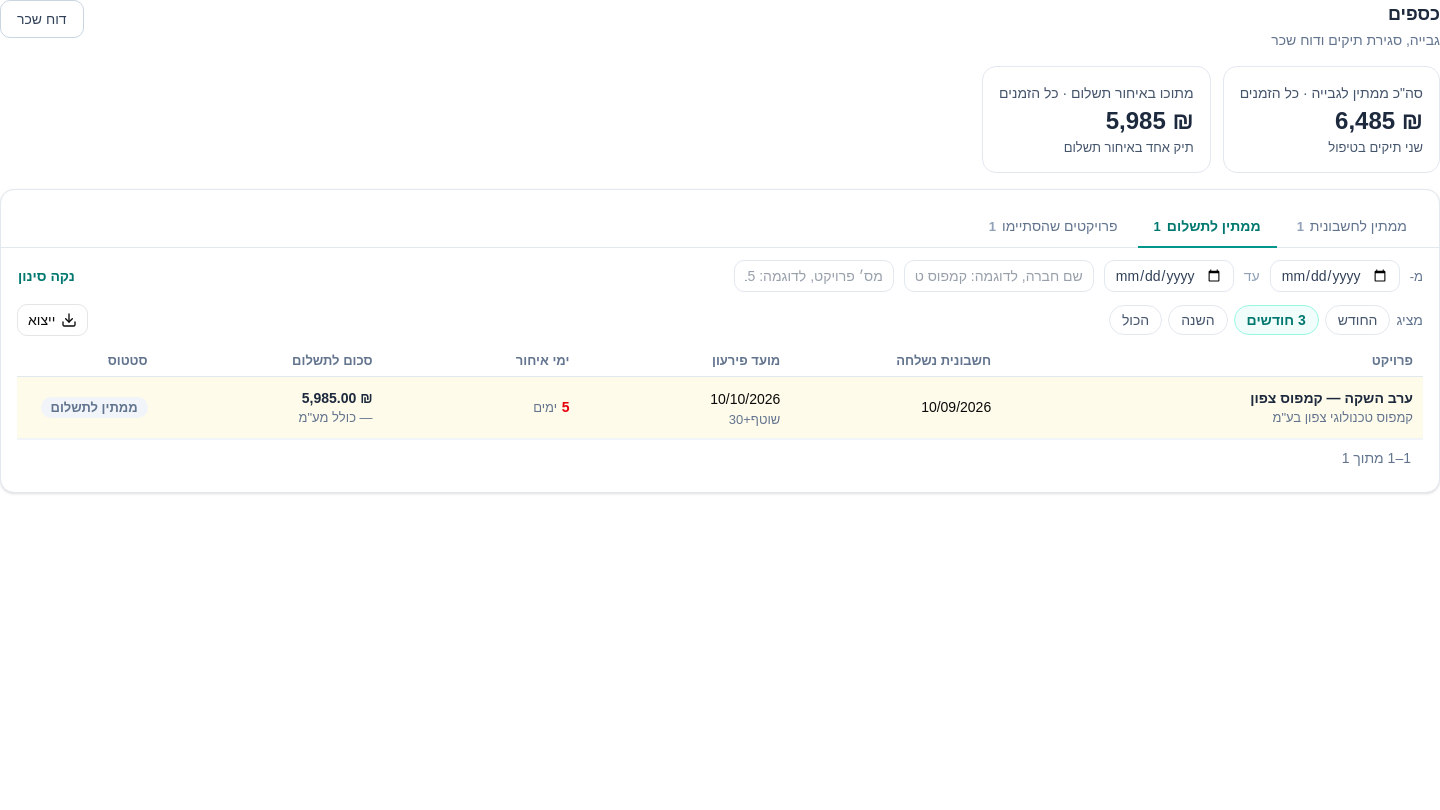
Scenario: FinancePage — חיבור לחלון-הייצוא, ליבה פר-לשונית › 🔴 כשל בטעינת המע"מ ⇒ הייצוא חסום והסיבה כתובה
Expected: the table with test id "finance-table" is shown, [17, 346, 1423, 439]
Click the button with test id "finance-export-button" at (53, 320), box [17, 304, 88, 336]
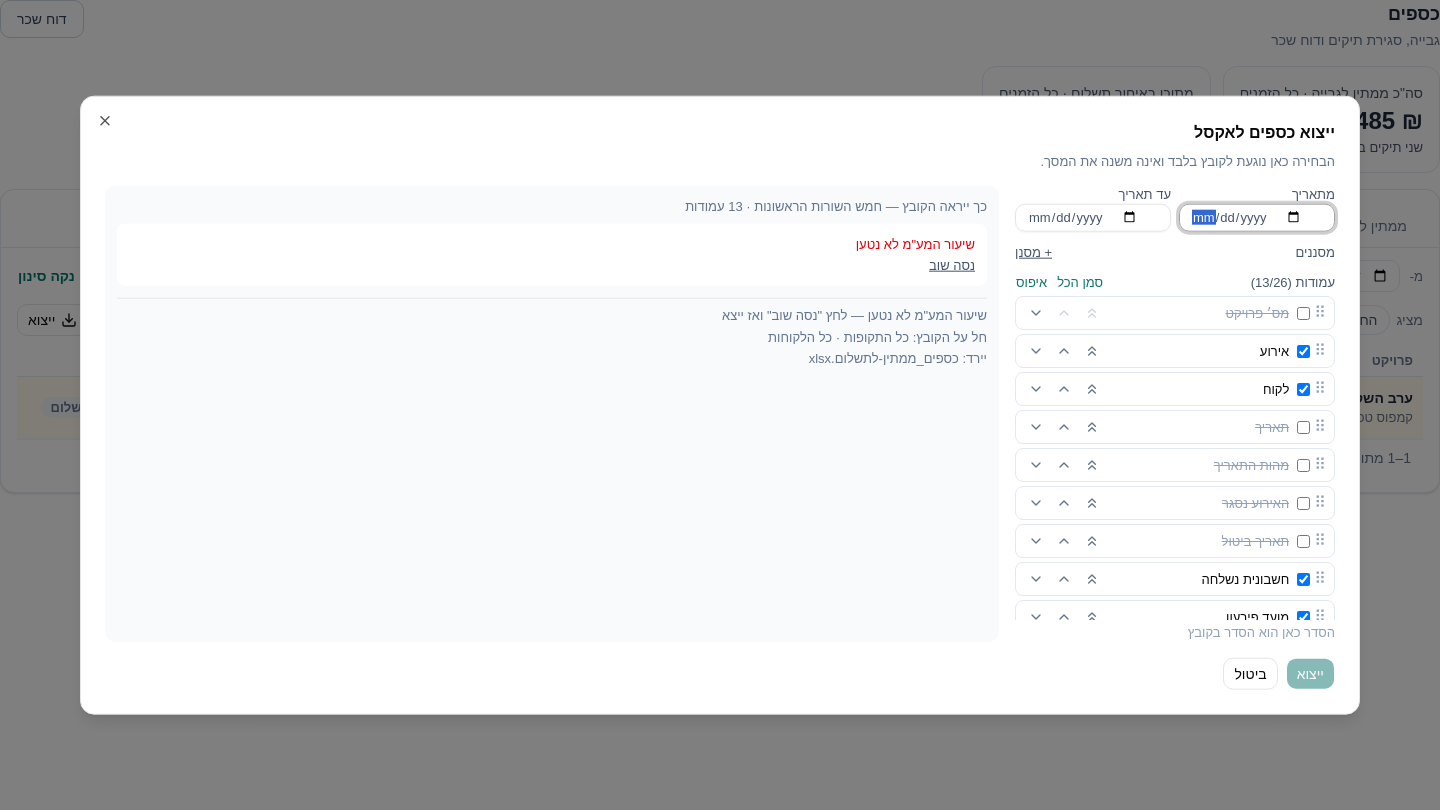
Expected: the text with test id "export-count" shows "לא נטען", [722, 308, 987, 323]
Expected: the button with test id "export-dialog-run" is disabled, [1286, 657, 1335, 689]
Click the button "נסה שוב" at (952, 265), box [929, 257, 975, 274]
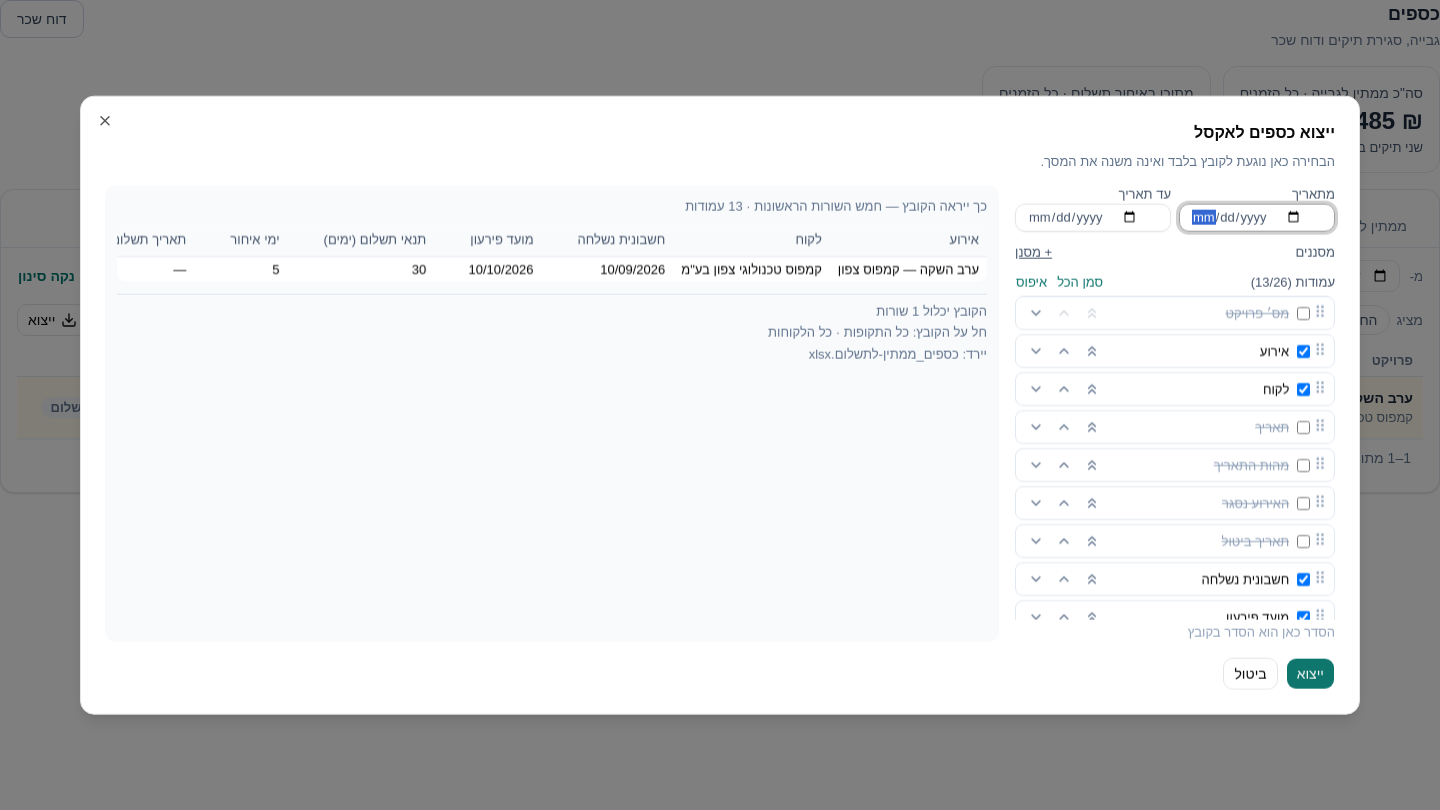
Expected: the button with test id "export-dialog-run" is enabled, [1286, 657, 1335, 689]
